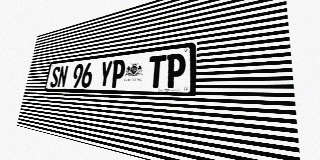6: (80, 62, 94, 88)
9: (71, 64, 84, 88)
N: (57, 65, 69, 87)
P: (165, 53, 186, 88), (110, 59, 126, 88)
S: (49, 66, 61, 87)
T: (147, 55, 166, 88)
Y: (98, 60, 113, 88)
